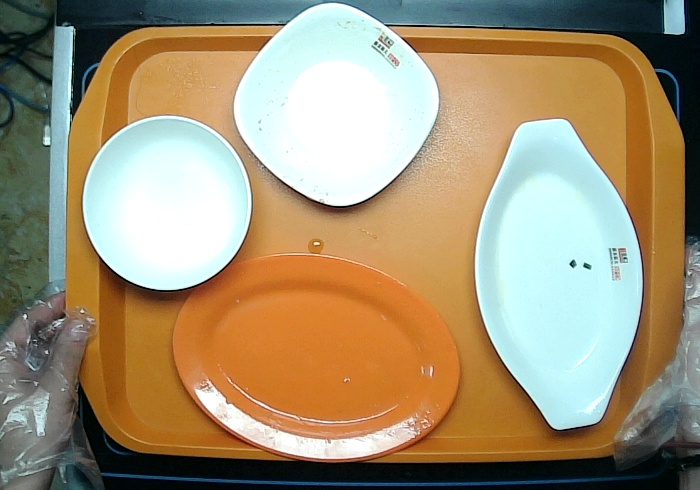NLDX-Bai_Se_Xiao_Fang_Die: (234, 2, 440, 205)
NLDX-Fan_Wan: (82, 116, 253, 291)
NLDX-Ju_Se_Pan: (172, 254, 461, 462)
NLDX-Yu_Pan: (474, 119, 643, 431)
